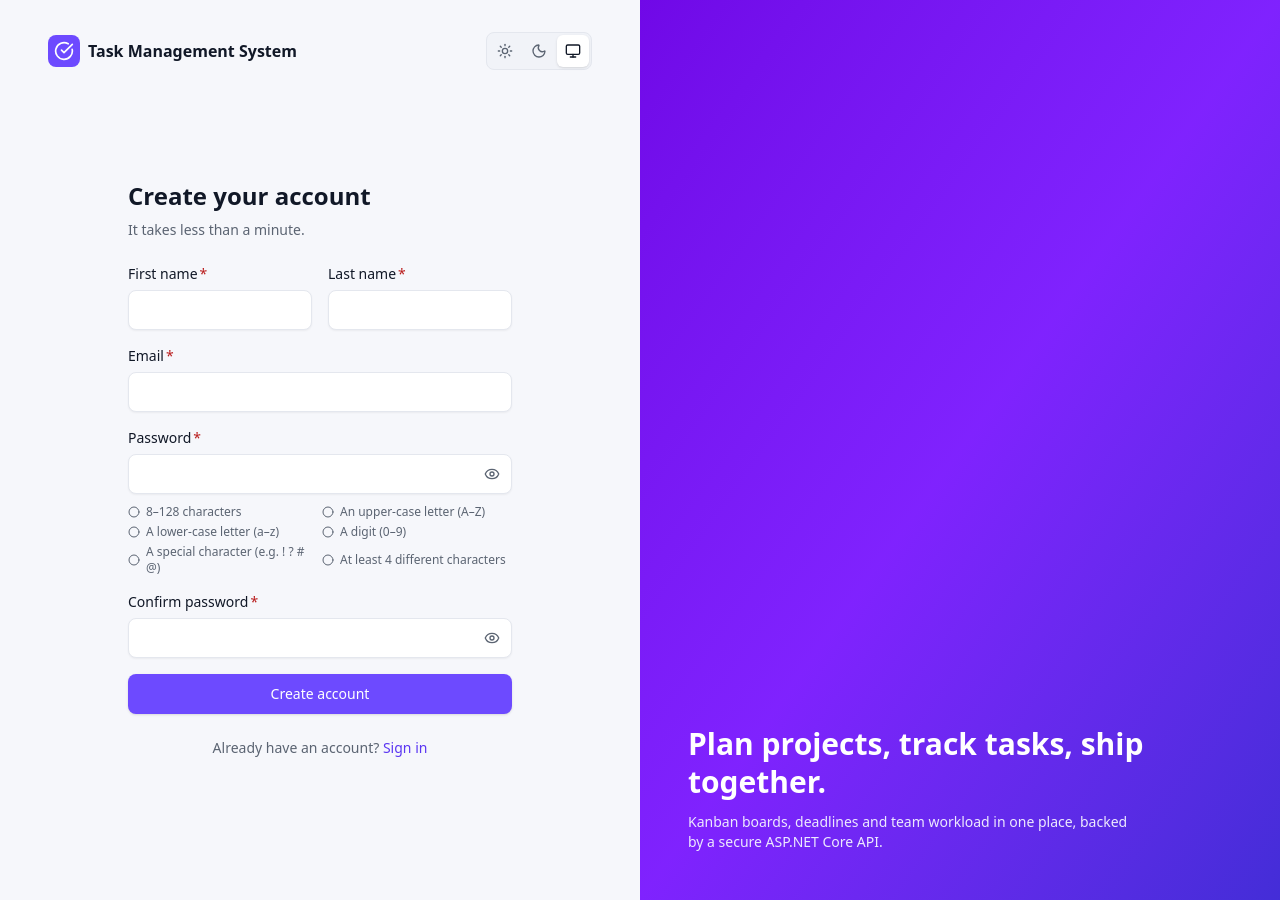
it: Registration › shows "email already exists" (409) on the email field and focuses it
This screenshot has width=1280, height=900.
Expected: the heading "Create your account" is shown, [128,179,371,212]
In the field labelled "First name": coordinates (220, 310) [128,290,312,330], type "Jane"
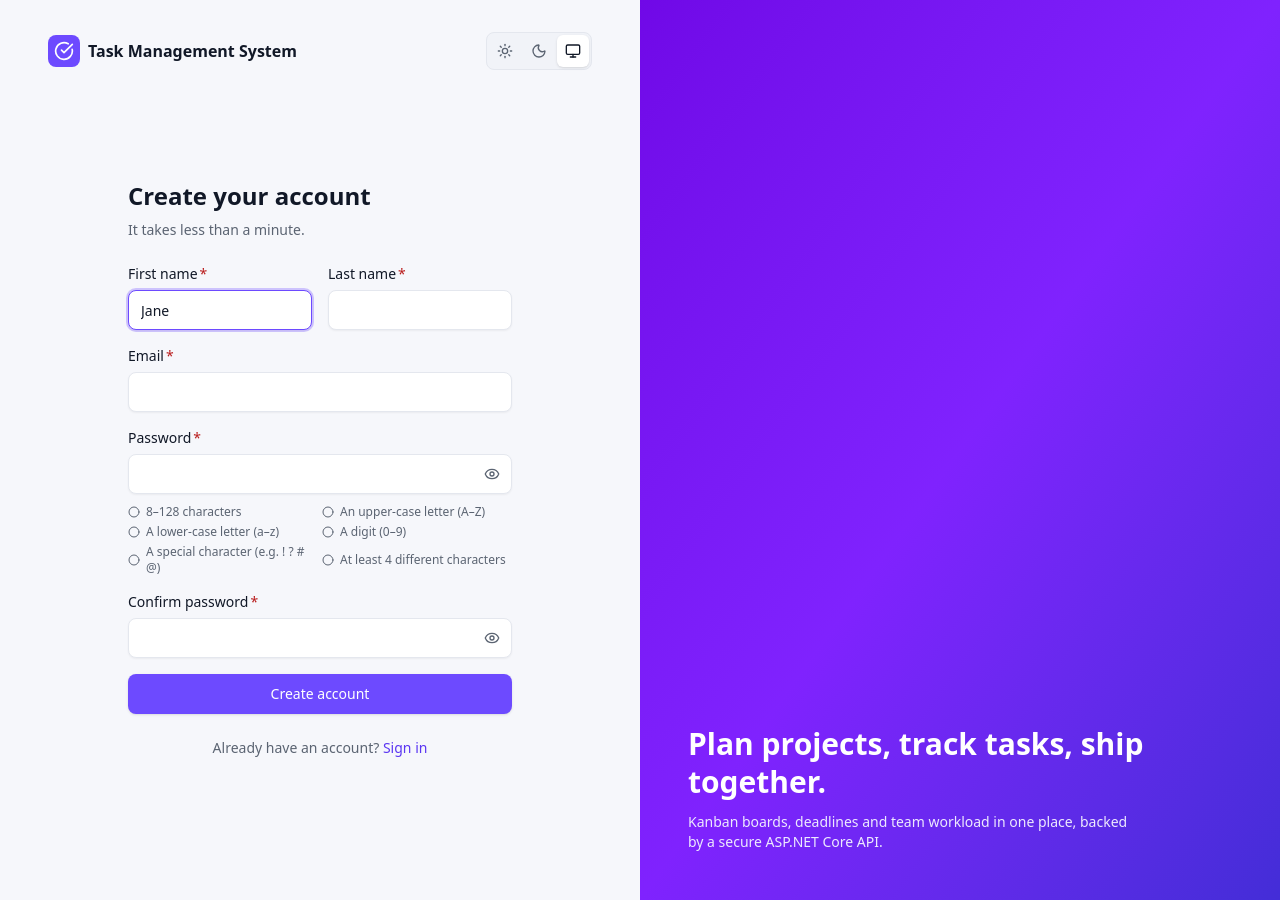
In the field labelled "Last name": coordinates (420, 310) [328,290,512,330], type "Doe"
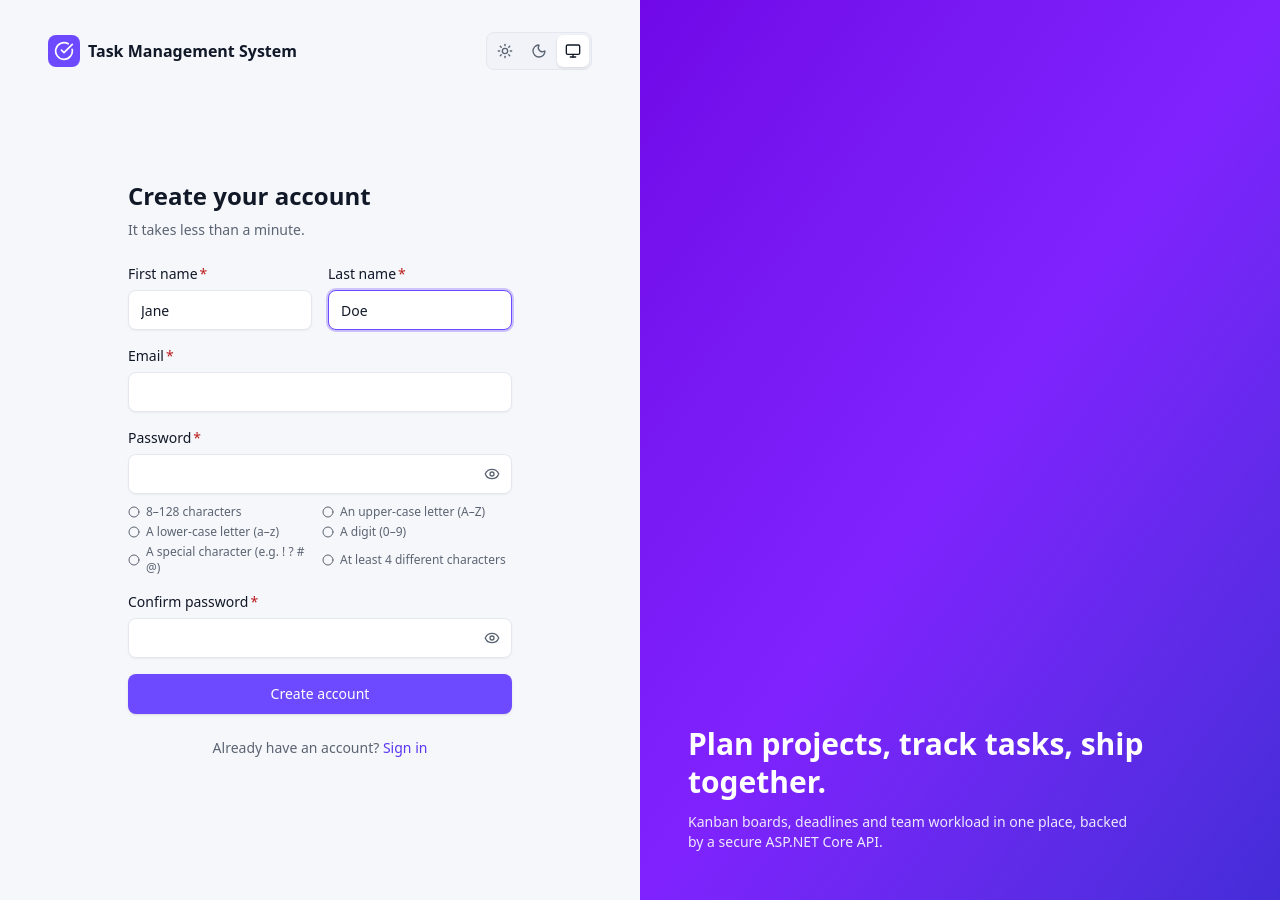
In the field labelled "Email": coordinates (320, 392) [128,372,512,412], type "jane.doe@example.com"
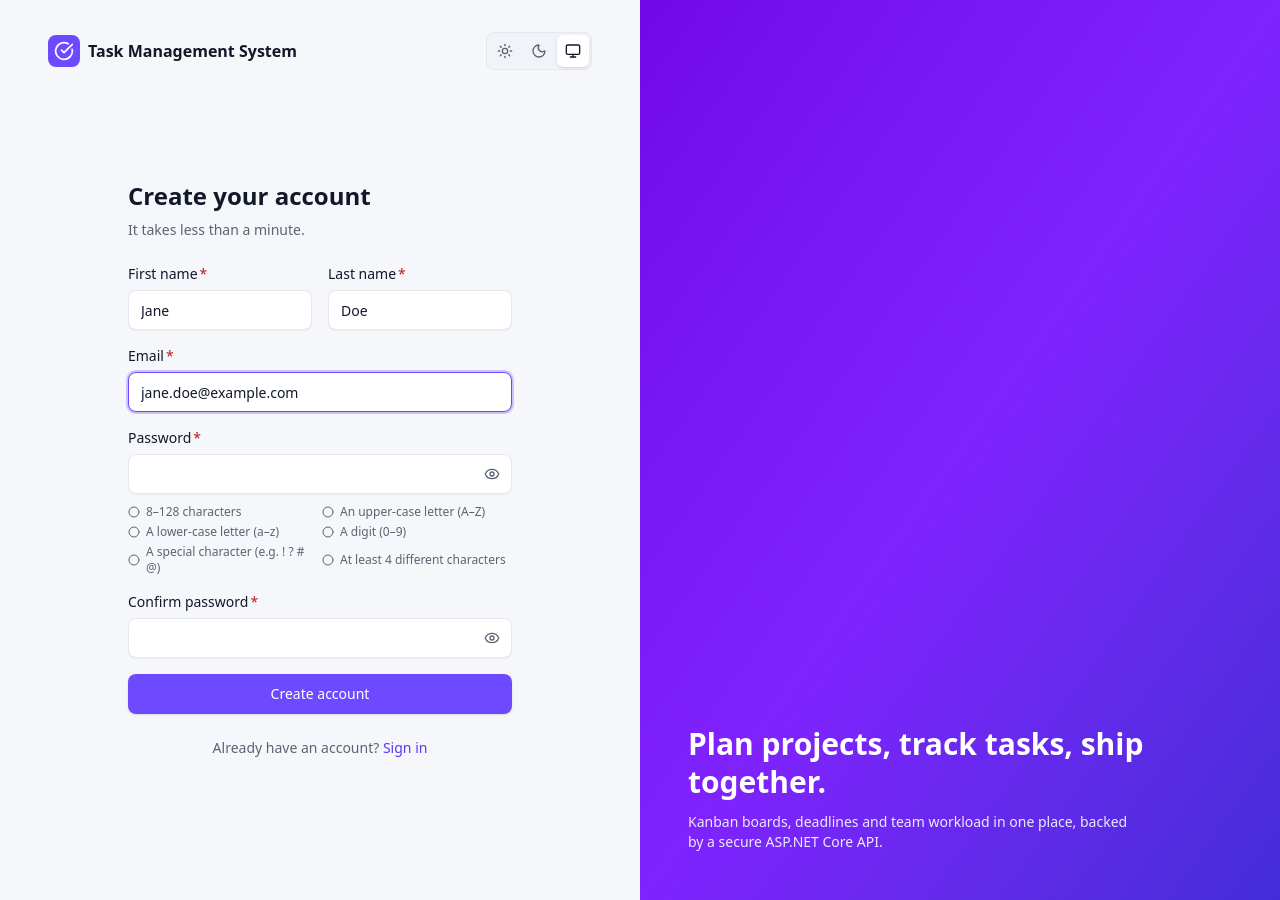
In the password field labelled "Password": coordinates (320, 474) [128,454,512,494], type "Str0ng!Pass"
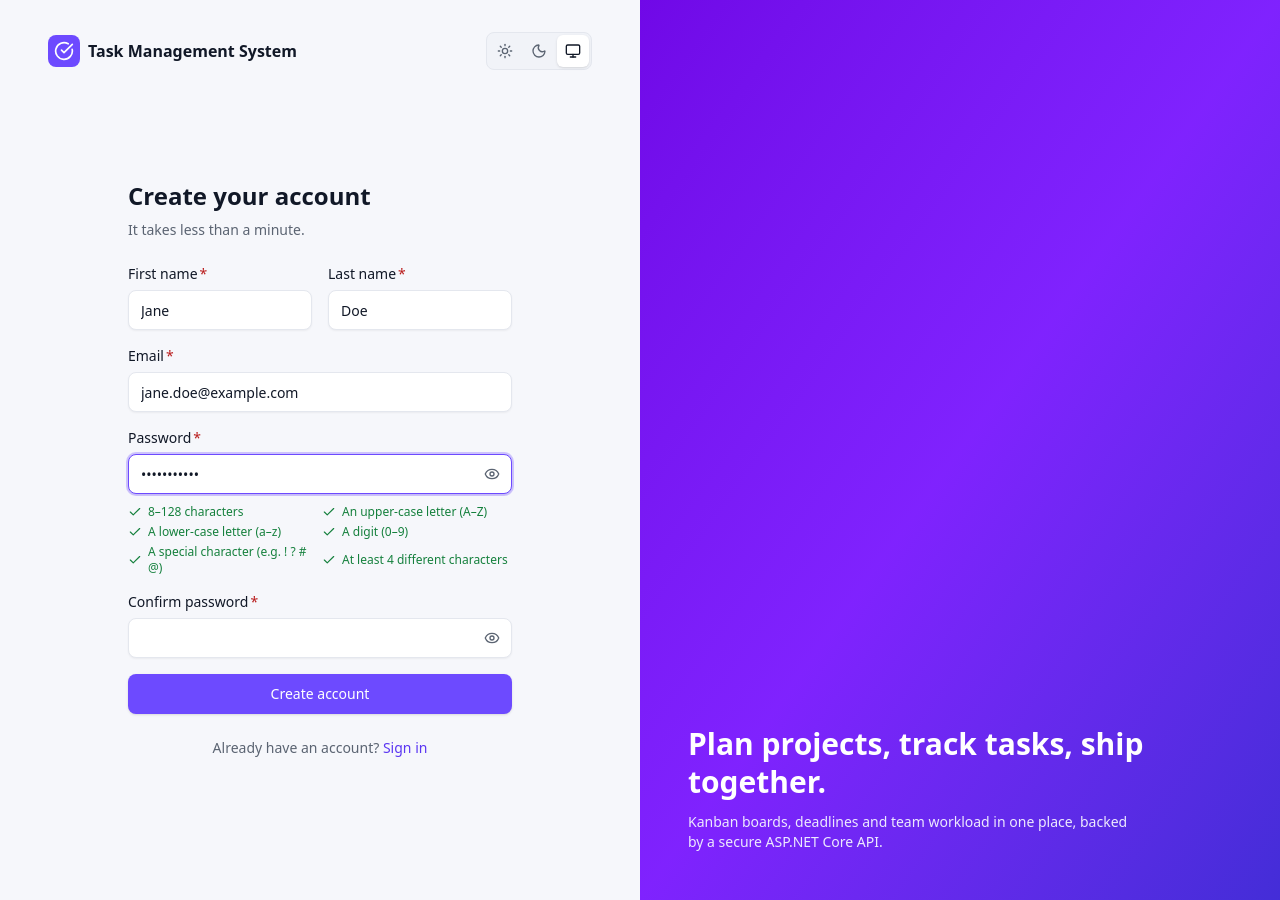
In the password field labelled "Confirm password": coordinates (320, 638) [128,618,512,658], type "Str0ng!Pass"
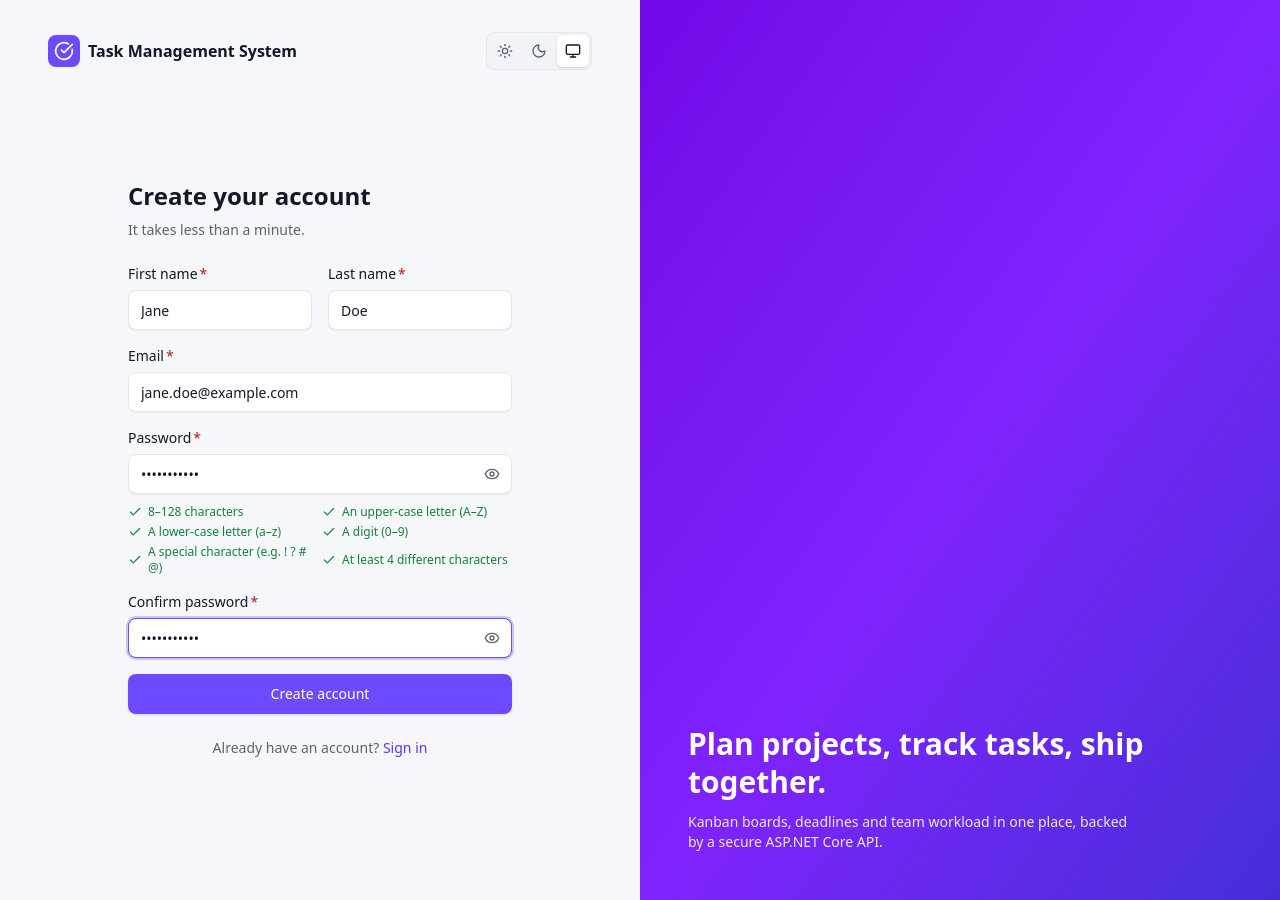
Click the button "Create account": coordinates (320, 694) [128,674,512,714]
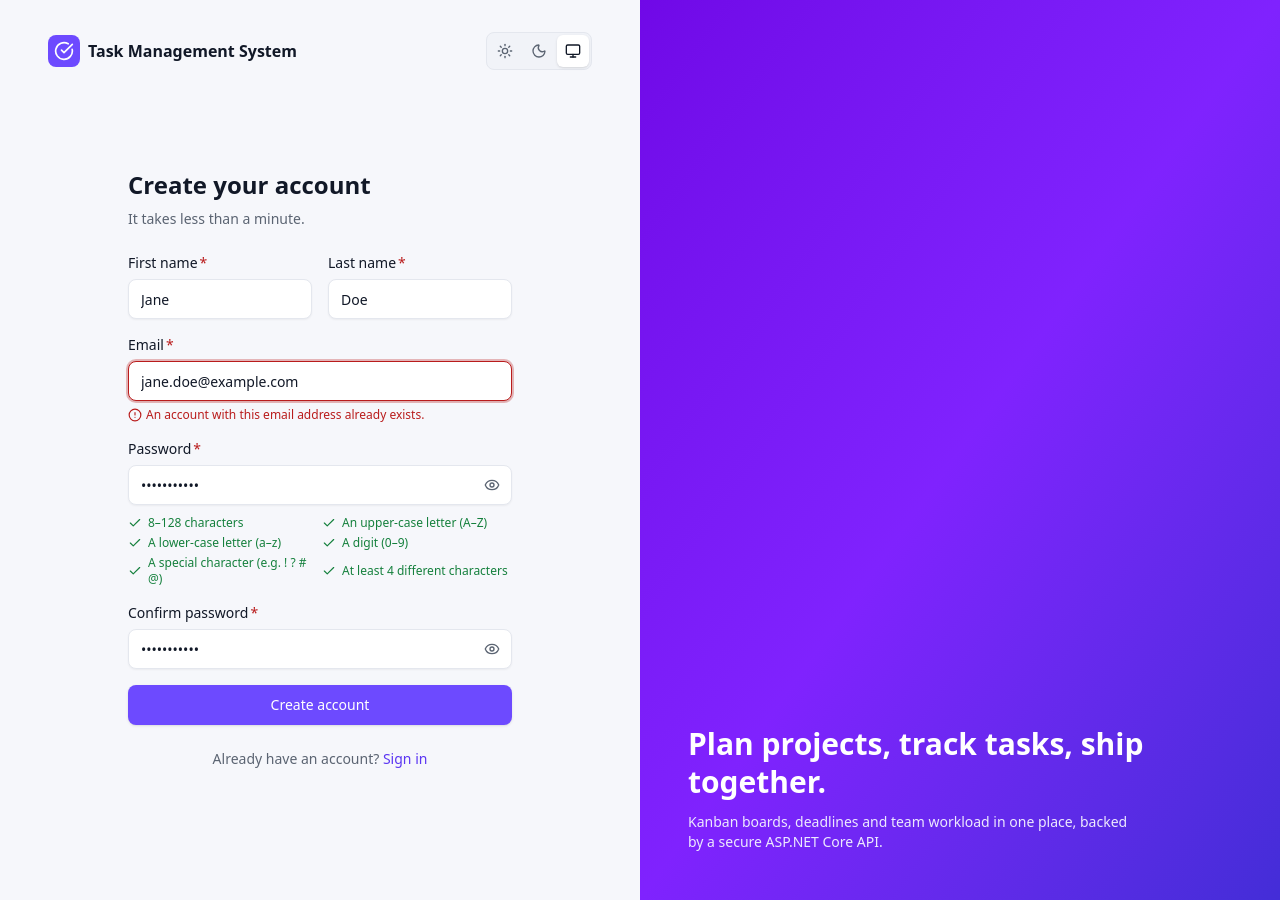
Now the text "An account with this email address already exists." is shown, box [128,406,424,423]
